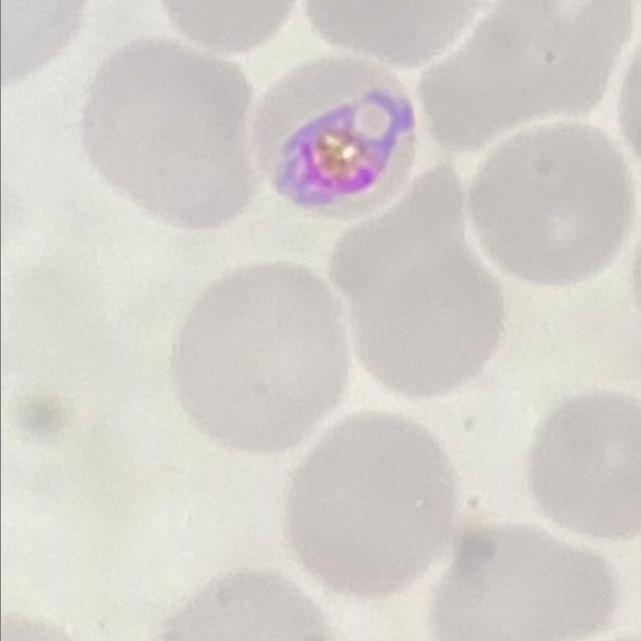Infected: (248, 52, 422, 217)
Uninfected: (79, 40, 264, 230), (424, 0, 641, 159), (174, 265, 347, 455), (289, 412, 449, 595), (473, 125, 630, 286), (433, 515, 616, 641), (349, 254, 501, 397), (529, 390, 641, 534)
